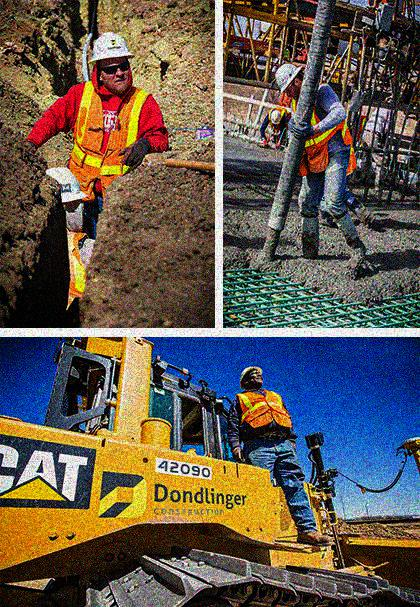helmet: (89, 30, 134, 97), (274, 62, 308, 101), (237, 362, 267, 391), (270, 108, 283, 126)
